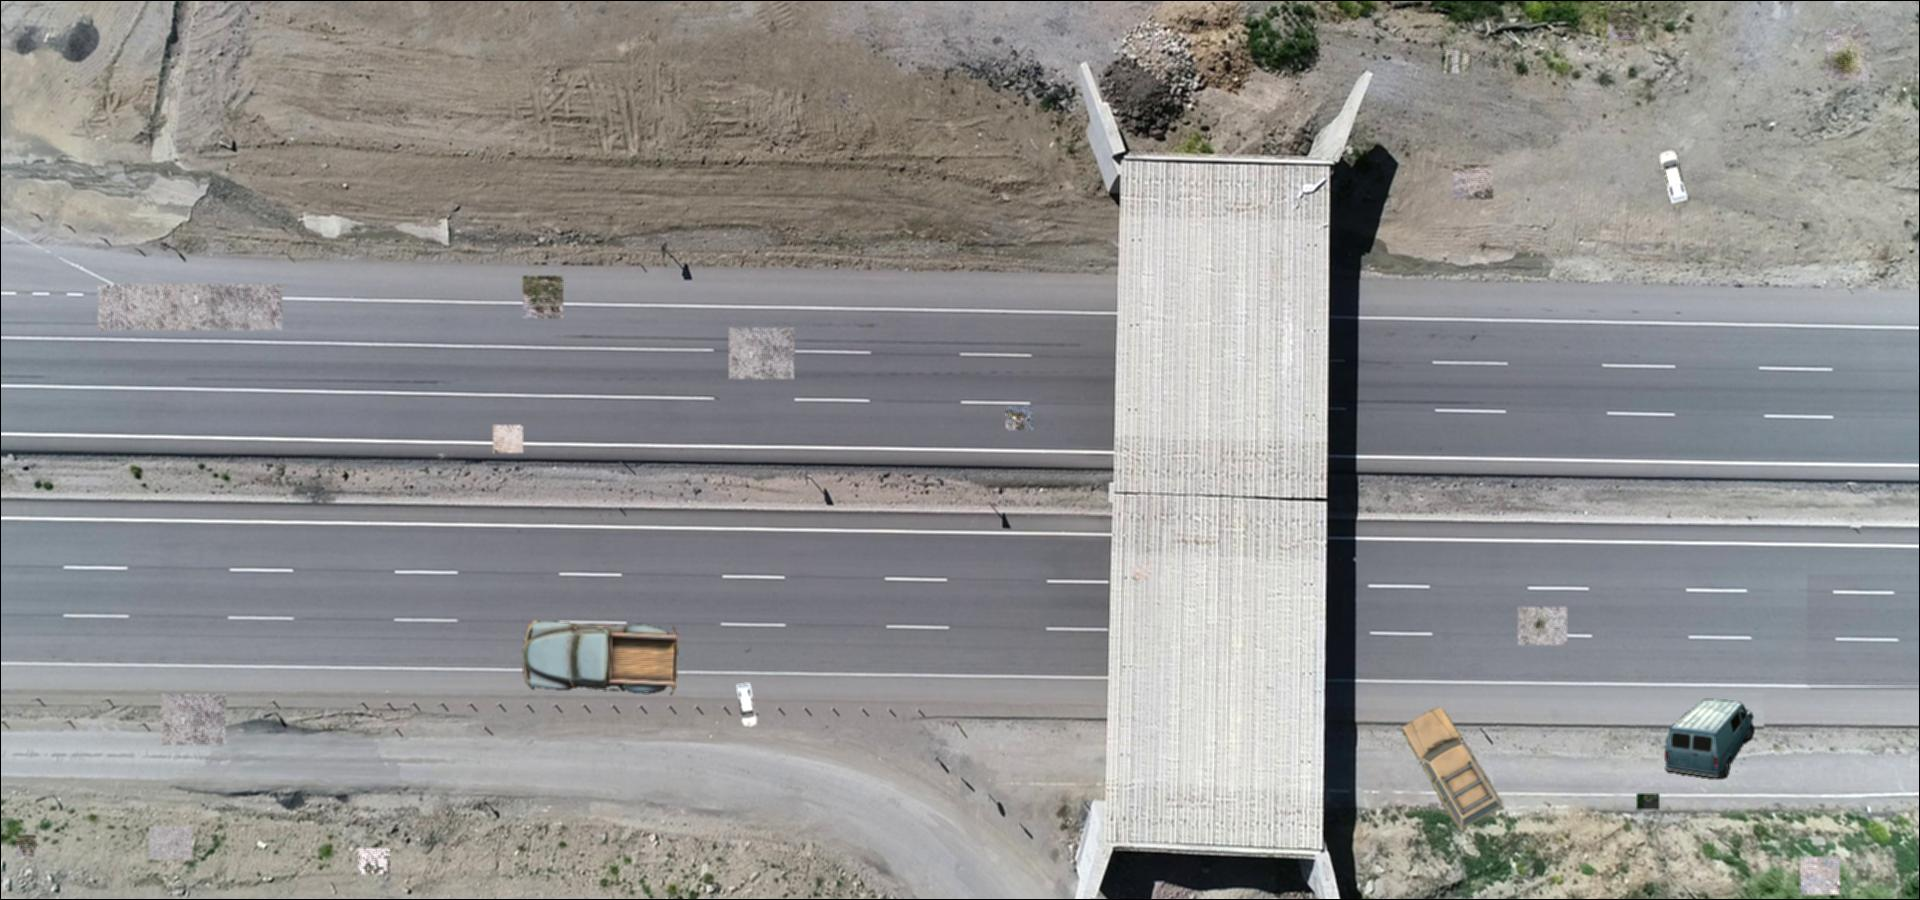arac: (1397, 704, 1505, 836), (522, 620, 680, 696), (1662, 694, 1757, 779), (1657, 147, 1691, 204), (733, 683, 760, 729)
